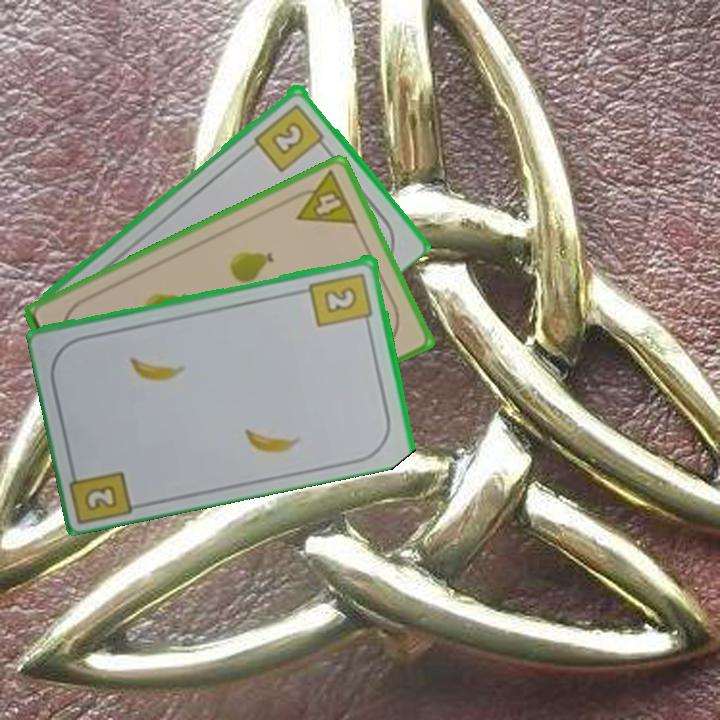2b: (250, 100, 331, 174), (306, 268, 375, 330), (81, 481, 121, 514)
4p: (284, 167, 361, 228)
